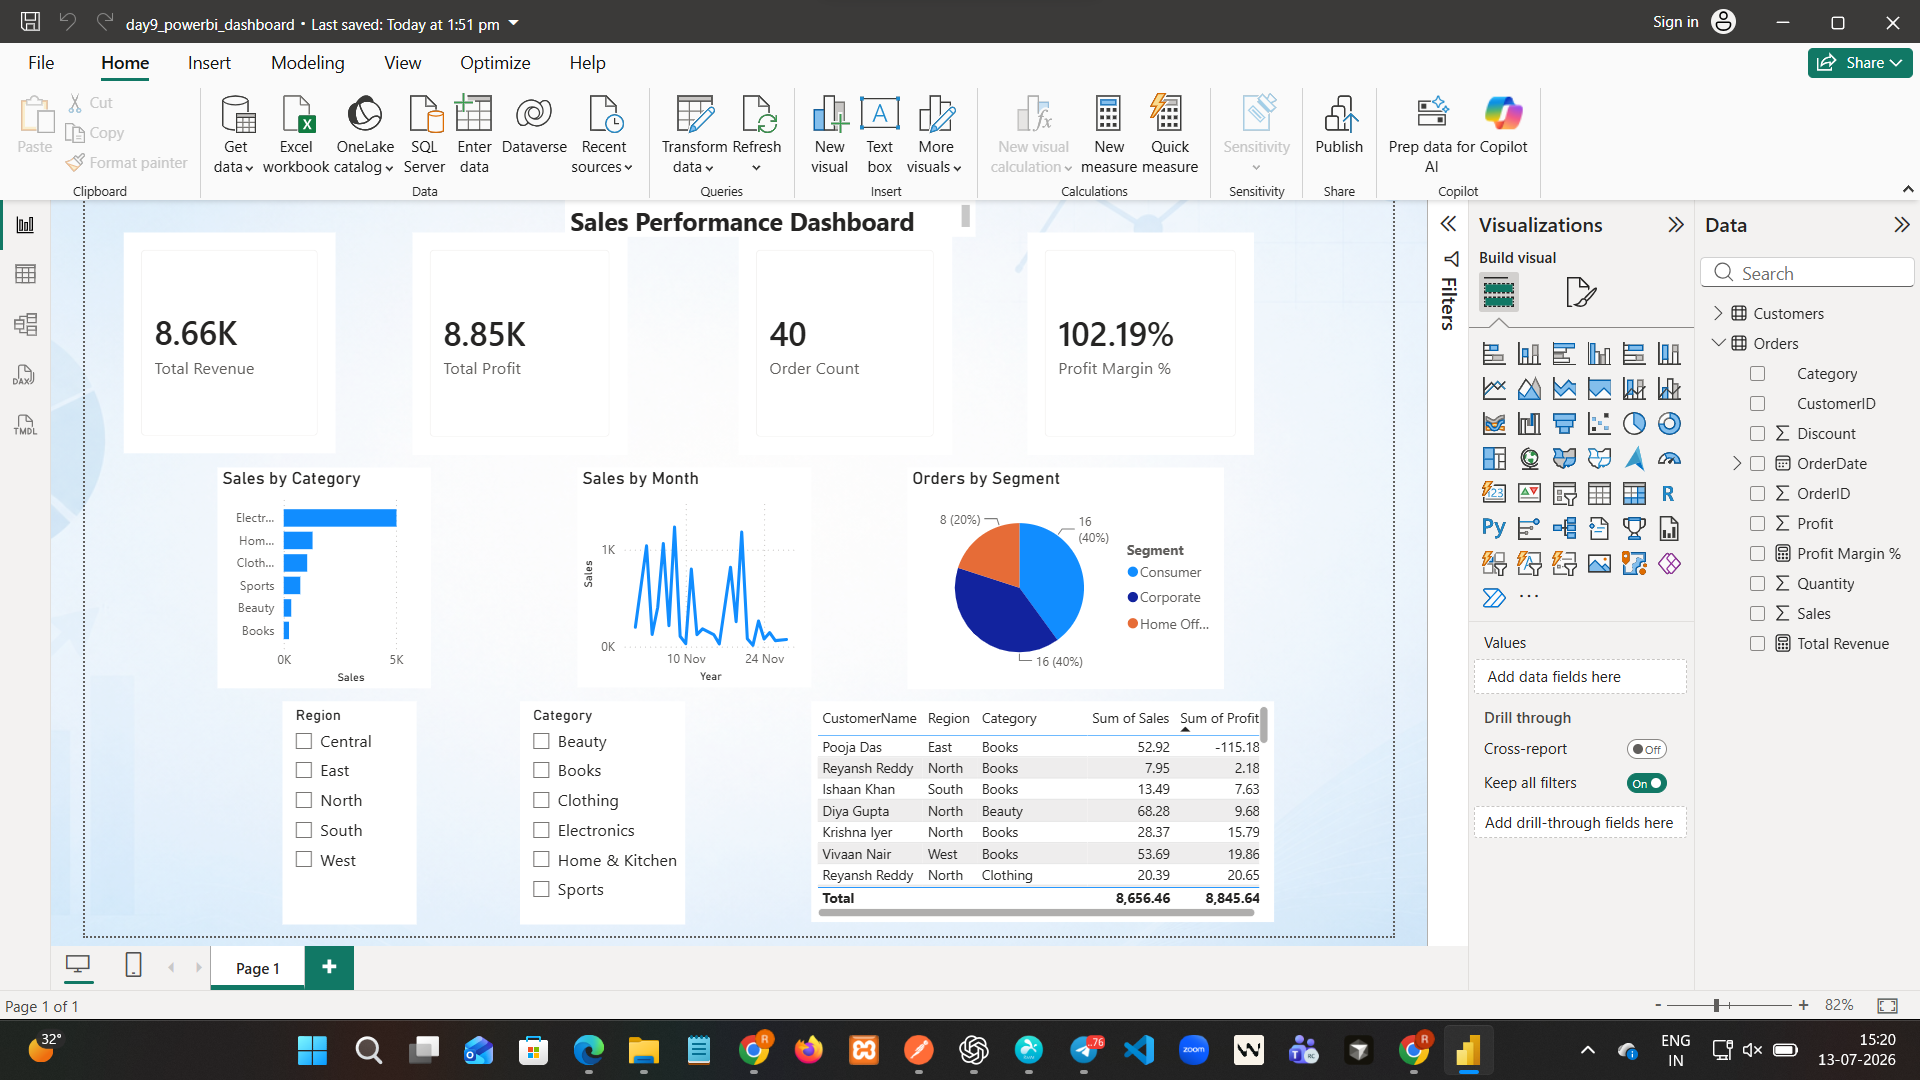

This screenshot's page, from the dashboard's own definition file:
{"tool":"powerbi","page":{"name":"Page 1","canvas":[1280,720],"ordinal":0},"visuals":[{"type":"cardVisual","fields":{"Data":["Orders.Total Revenue"]},"box":[37.5,31.2,207.5,216.2],"z":0},{"type":"cardVisual","fields":{"Data":["Sum(Orders.Profit)"]},"box":[320,31.2,210,217.5],"z":1000},{"type":"cardVisual","fields":{"Data":["CountNonNull(Orders.OrderID)"]},"box":[640,31.2,208.8,217.5],"z":2000},{"type":"clusteredBarChart","fields":{"Category":["Orders.Category"],"Y":["Sum(Orders.Sales)"]},"box":[130,261.2,208.8,216.2],"z":3000},{"type":"lineChart","title":"Sales by Month","fields":{"Category":["Orders.OrderDate.Variation.Date Hierarchy.Year","Orders.OrderDate.Variation.Date Hierarchy.Quarter","Orders.OrderDate.Variation.Date Hierarchy.Month","Orders.OrderDate.Variation.Date Hierarchy.Day"],"Y":["Sum(Orders.Sales)"]},"box":[481.8,261.7,228.7,215.2],"z":4000},{"type":"pieChart","fields":{"Category":["Customers.Segment"],"Y":["CountNonNull(Orders.OrderID)"]},"box":[804.6,261.7,309.4,216.4],"z":5000},{"type":"tableEx","fields":{"Values":["Customers.CustomerName","Customers.Region","Orders.Category","Sum(Orders.Sales)","Sum(Orders.Profit)"]},"box":[710,490,452.5,216.2],"z":6000},{"type":"slicer","fields":{"Values":["Customers.Region"]},"box":[193.8,490,131.2,218.8],"z":7000},{"type":"slicer","fields":{"Values":["Orders.Category"]},"box":[425,490,161.2,218.8],"z":8000},{"type":"cardVisual","fields":{"Data":["Orders.Profit Margin %"]},"box":[922.5,31.2,221.2,217.5],"z":9000},{"type":"textbox","box":[470,0,401.2,36.2],"z":10000}]}

Visuals, with their boxes on the page's 1280x720 design canvas (x1, y1, x2, y2). These are canvas units, not pixel positions in the 1920x1080 screenshot, which may show the page scaled, cropped or inside an application window:
cardVisual - Orders.Total Revenue: {"left": 38, "top": 31, "right": 245, "bottom": 247}
cardVisual - Sum(Orders.Profit): {"left": 320, "top": 31, "right": 530, "bottom": 249}
cardVisual - CountNonNull(Orders.OrderID): {"left": 640, "top": 31, "right": 849, "bottom": 249}
clusteredBarChart - Orders.Category x Sum(Orders.Sales): {"left": 130, "top": 261, "right": 339, "bottom": 477}
"Sales by Month" lineChart: {"left": 482, "top": 262, "right": 710, "bottom": 477}
pieChart - Customers.Segment x CountNonNull(Orders.OrderID): {"left": 805, "top": 262, "right": 1114, "bottom": 478}
tableEx - Customers.CustomerName x Customers.Region: {"left": 710, "top": 490, "right": 1162, "bottom": 706}
slicer - Customers.Region: {"left": 194, "top": 490, "right": 325, "bottom": 709}
slicer - Orders.Category: {"left": 425, "top": 490, "right": 586, "bottom": 709}
cardVisual - Orders.Profit Margin %: {"left": 922, "top": 31, "right": 1144, "bottom": 249}
textbox: {"left": 470, "top": 0, "right": 871, "bottom": 36}
